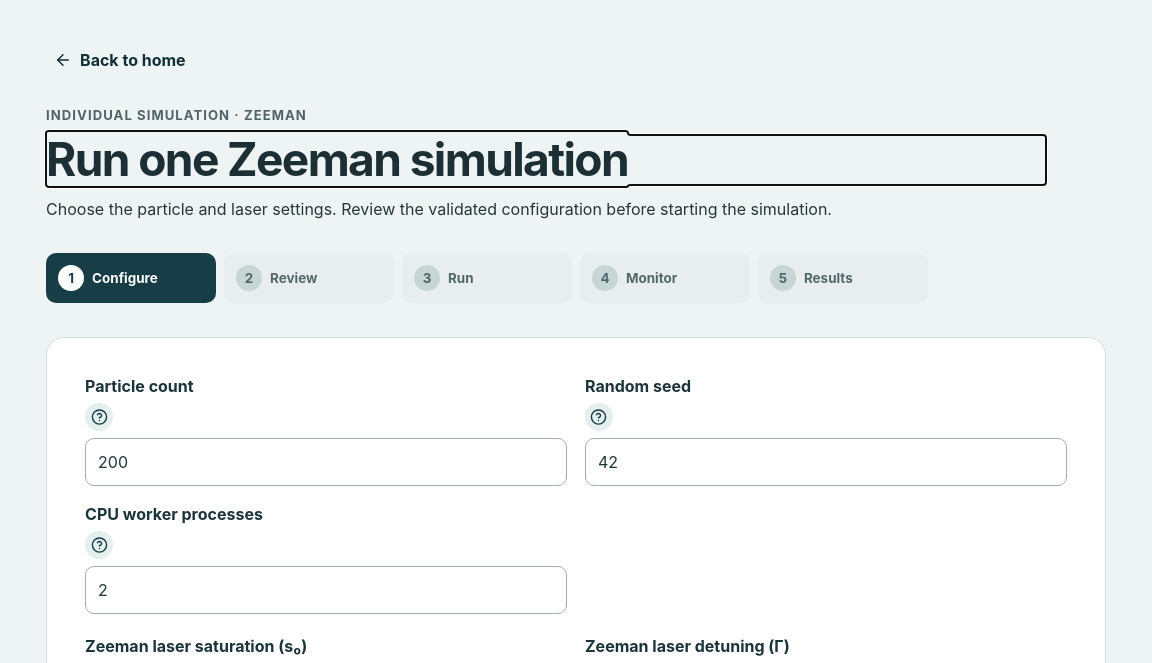
Scenario: individual Zeeman wizard › does not copy an unfinished particle input into local workers when changing mode
Clear the number field labelled "Particle count" at x=326, y=462, box x1=85 y1=438 x2=567 y2=486
(page scrolled)
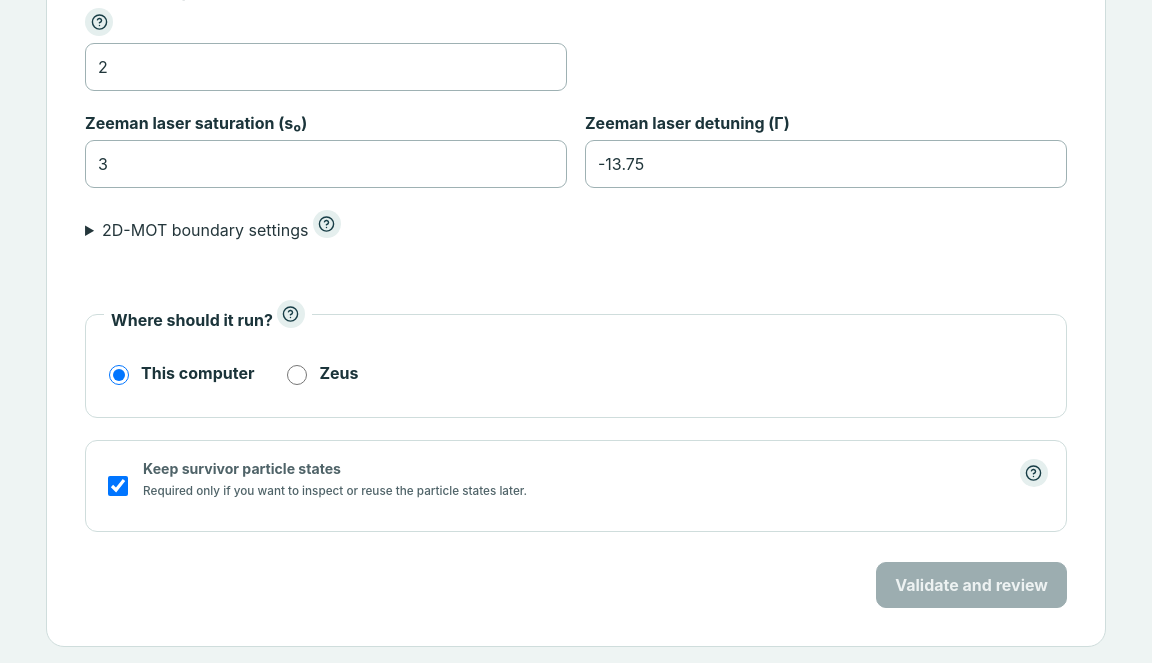
Click the radio button labelled "Zeus" at x=297, y=375, box x1=287 y1=351 x2=307 y2=399
(page scrolled)
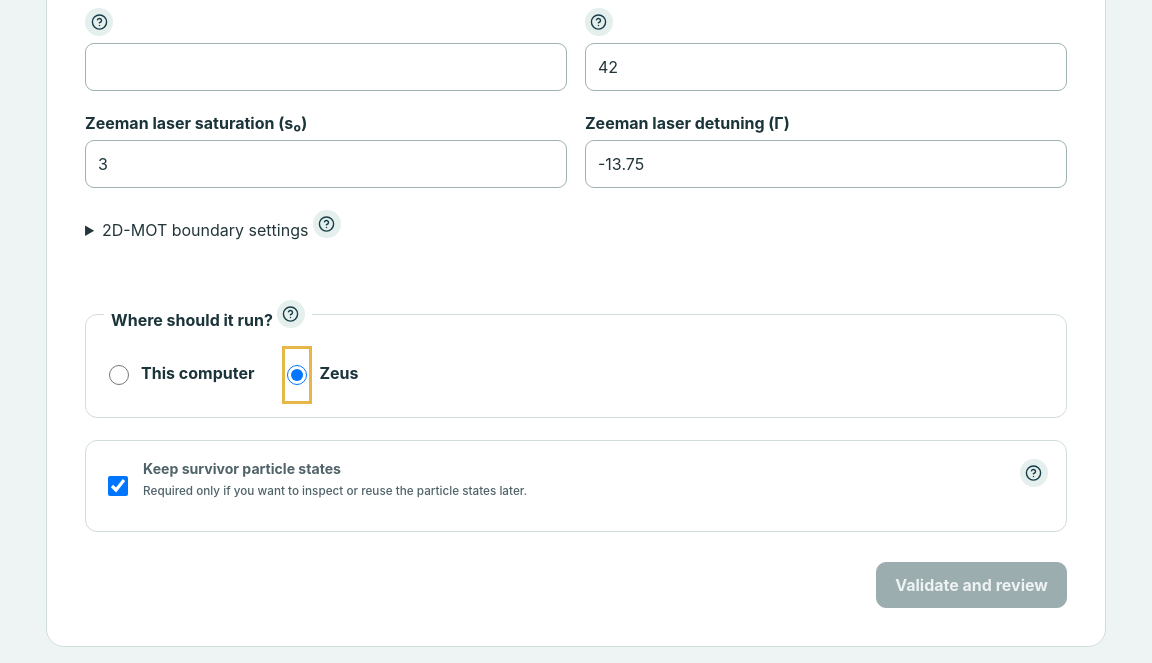
Click the radio button labelled "This computer" at x=119, y=375, box x1=109 y1=351 x2=129 y2=399
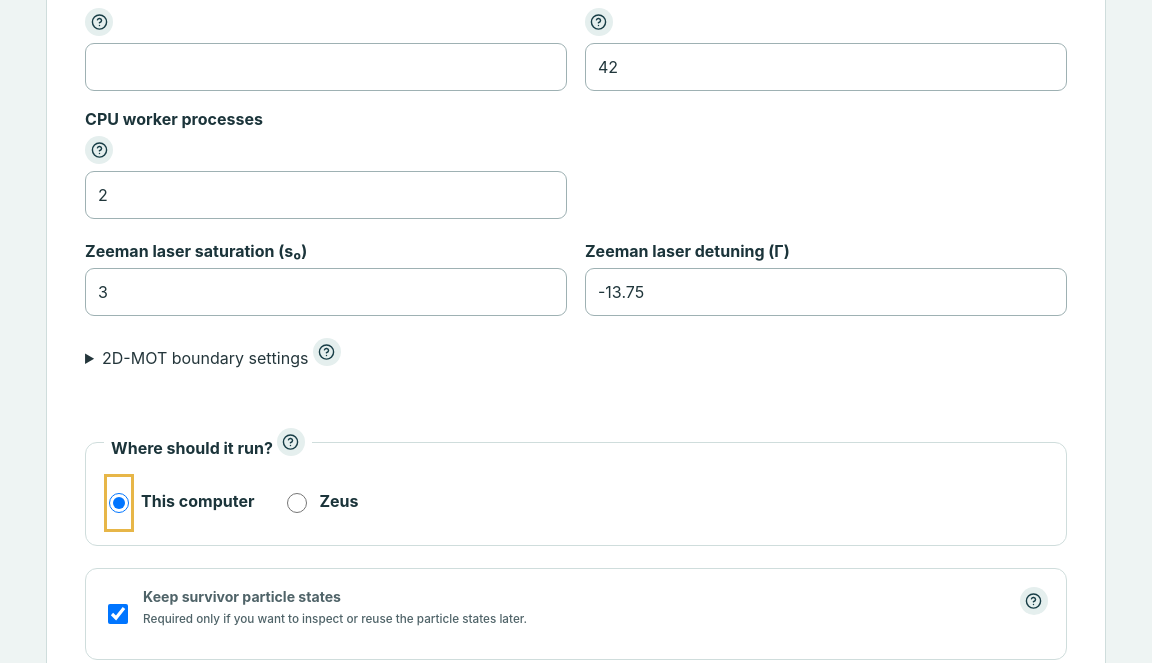
Type "1" into the number field labelled "Particle count" at x=326, y=67, box x1=85 y1=43 x2=567 y2=91
(page scrolled)
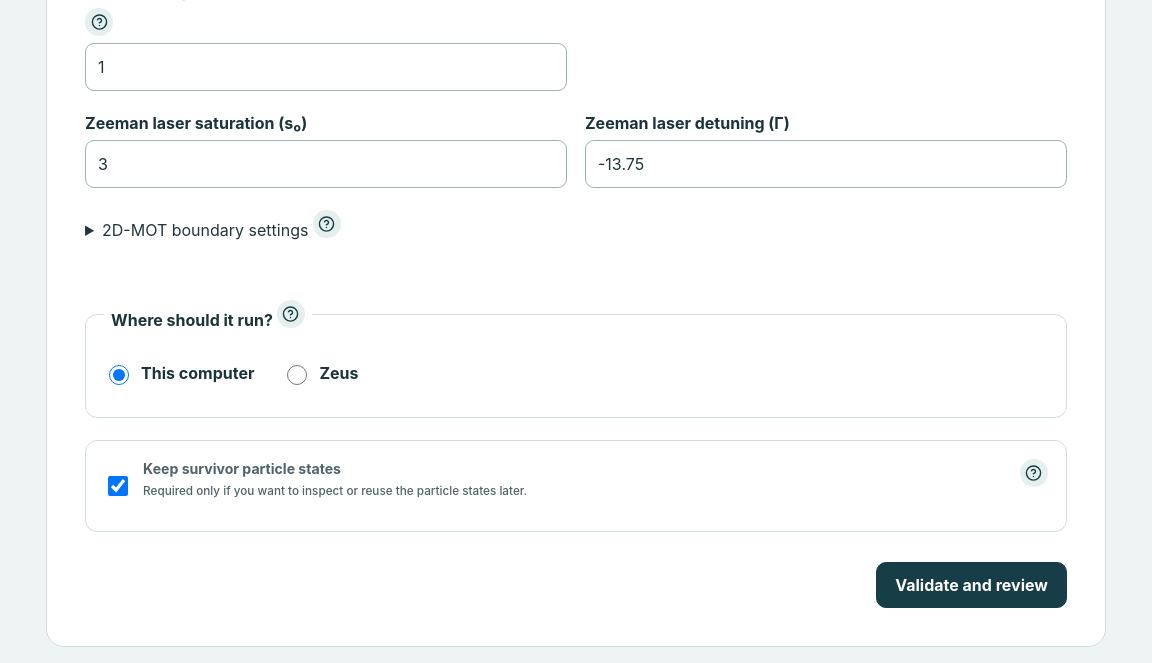
expect the number field labelled "CPU worker processes" holds "1": met, box x1=85 y1=43 x2=567 y2=91
expect the button "Validate and review" is enabled: met, box x1=876 y1=562 x2=1067 y2=608
